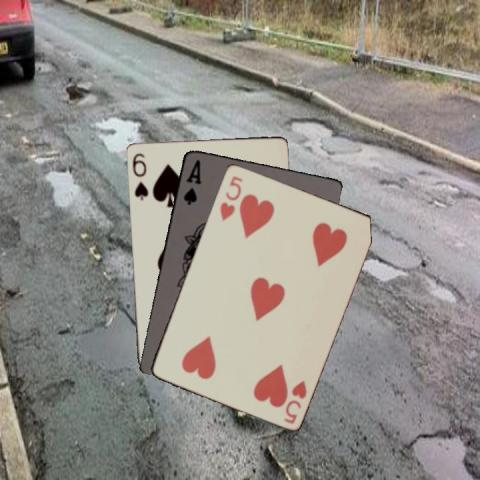5h: (217, 173, 244, 222), (281, 376, 308, 424)
6s: (130, 149, 150, 201)
As: (180, 156, 203, 207)
